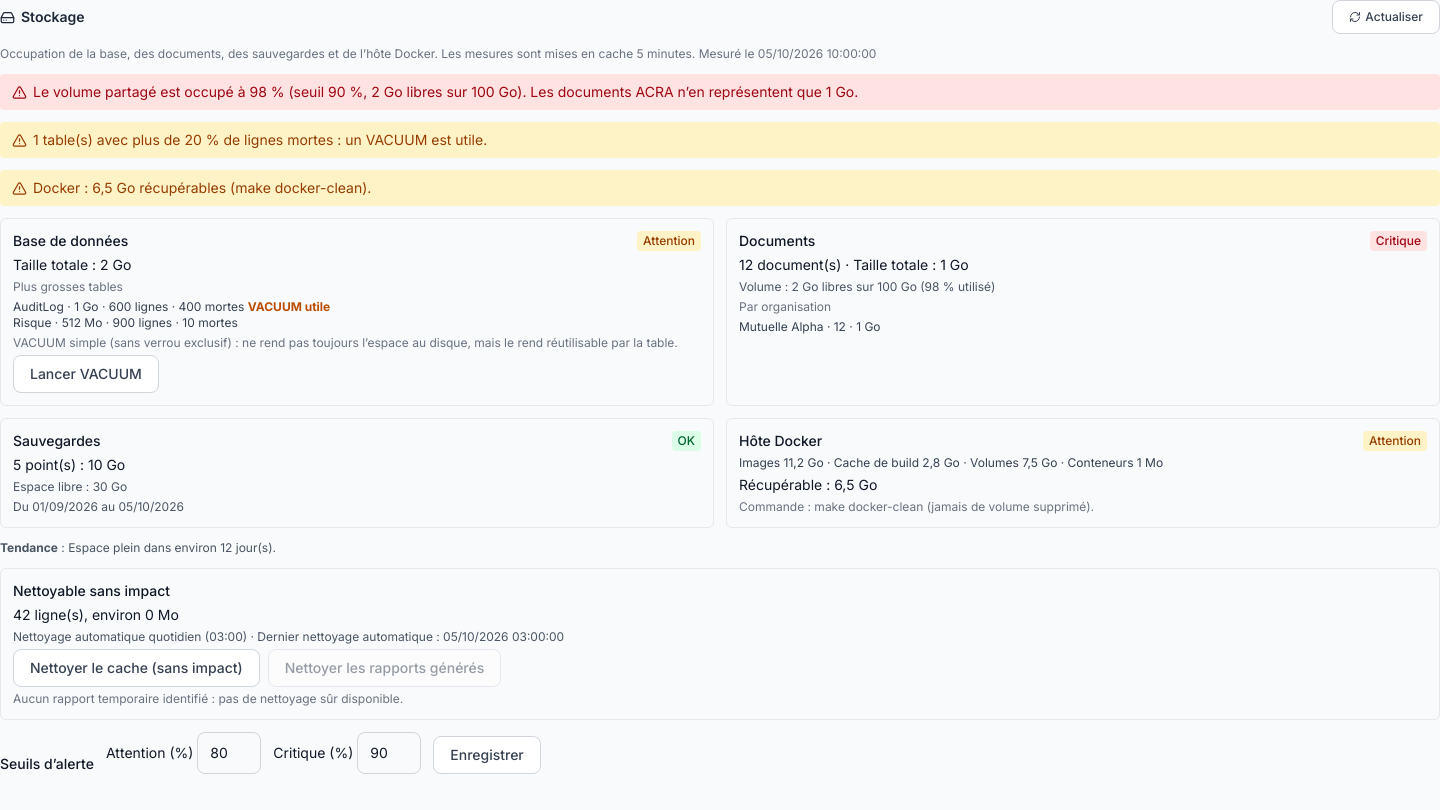
Scenario: StorageUsagePanel › nettoyage déjà en cours (409) : message traduit
Check: the text "Base de données" is shown, box [13, 232, 128, 249]
Click the button "Nettoyer le cache (sans impact)".
click(136, 668)  # box [13, 649, 260, 687]
(page scrolled)
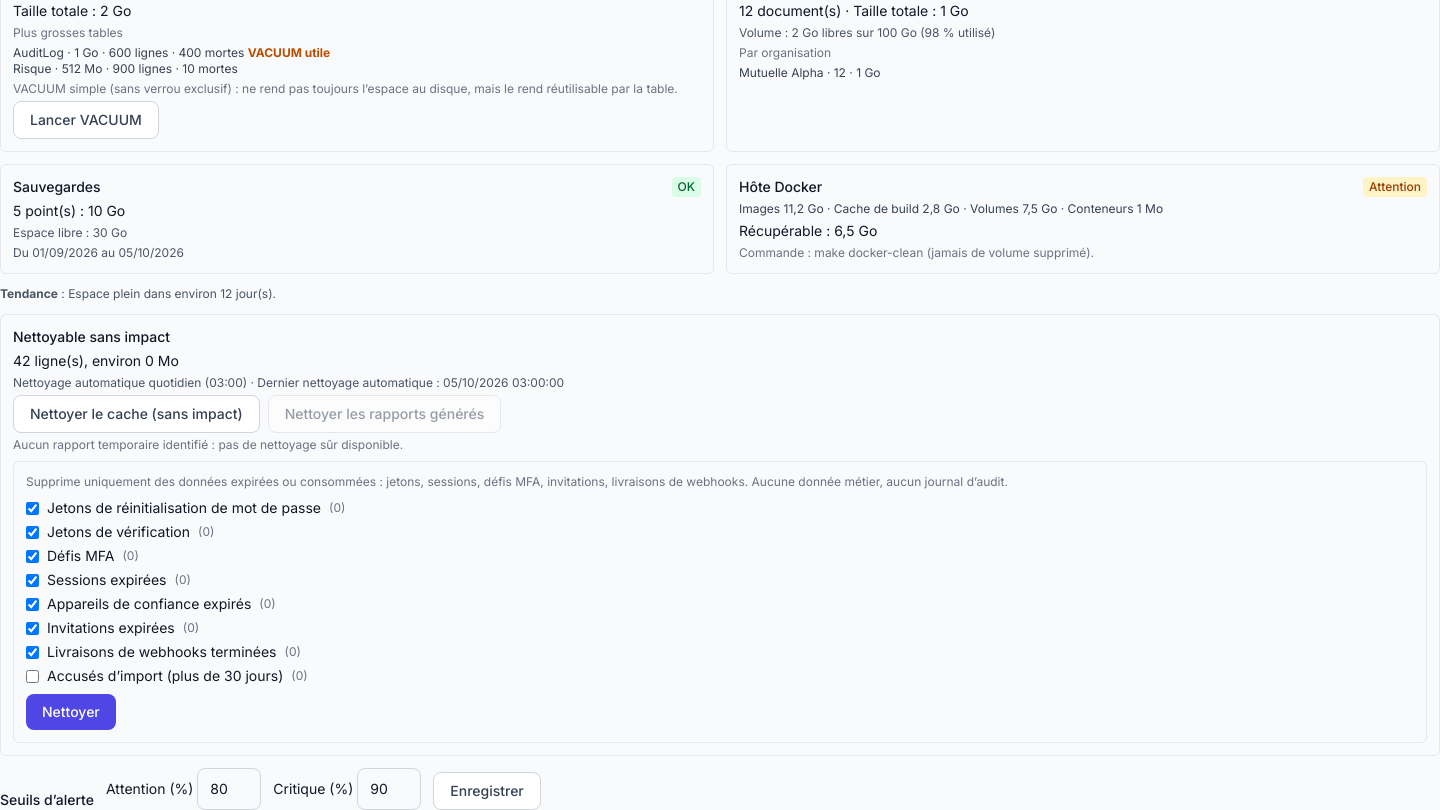
Check: the text "Jetons de réinitialisation de mot de passe" is shown, box [47, 499, 321, 516]
Click the button "Nettoyer".
click(71, 712)  # box [26, 694, 116, 730]
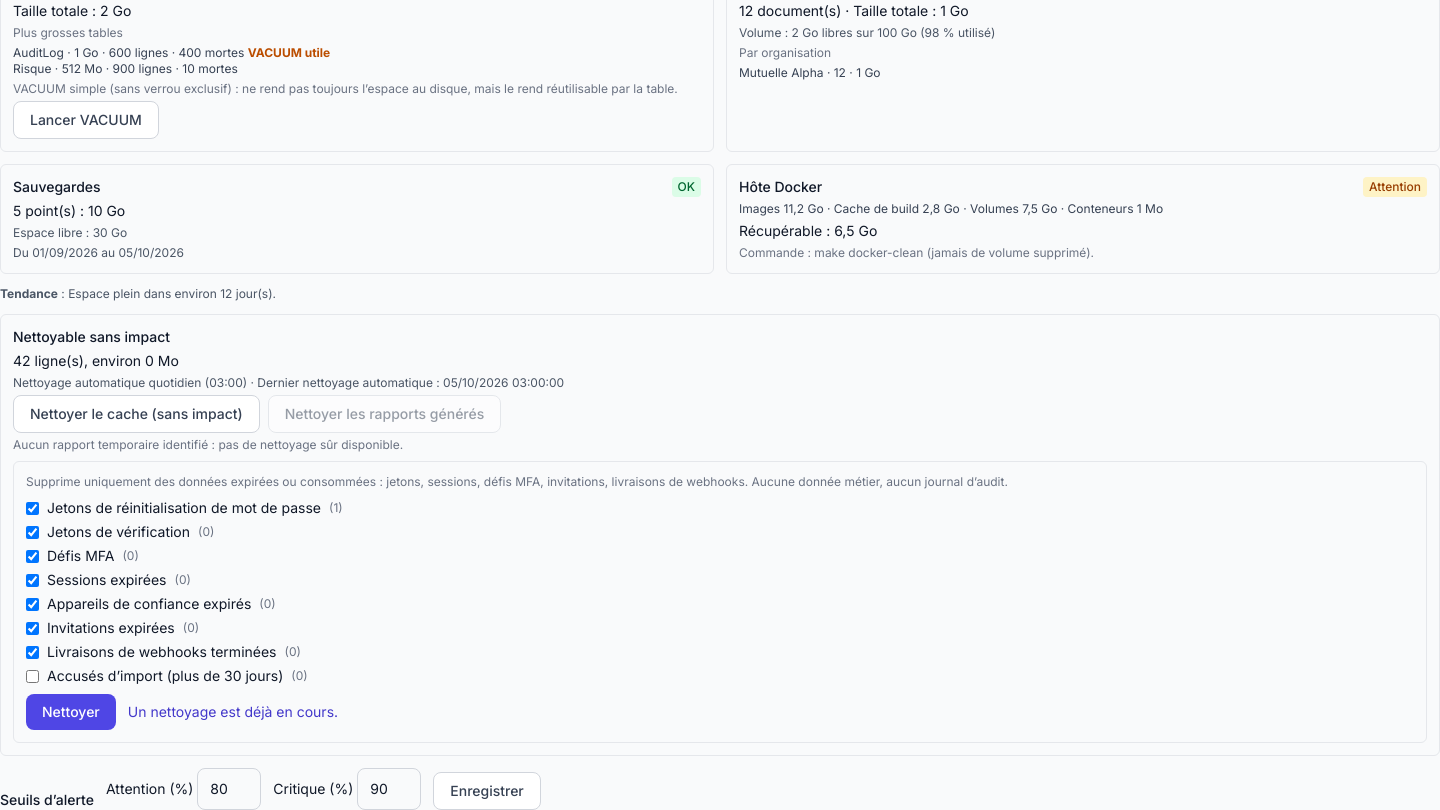
Check: the text "Un nettoyage est déjà en cours." is shown, box [128, 702, 338, 722]
